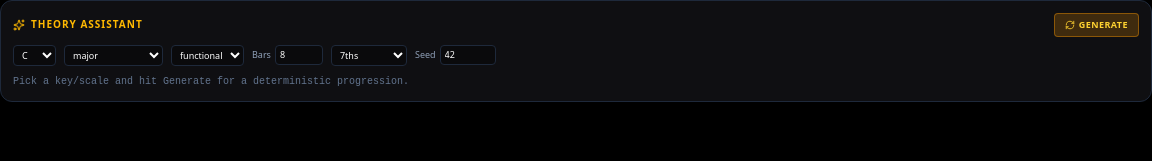
Test: TheoryPanel › generates a progression and shows chords, summary and score
Click the button "Generate" at (1096, 25), box [1054,13,1139,36]
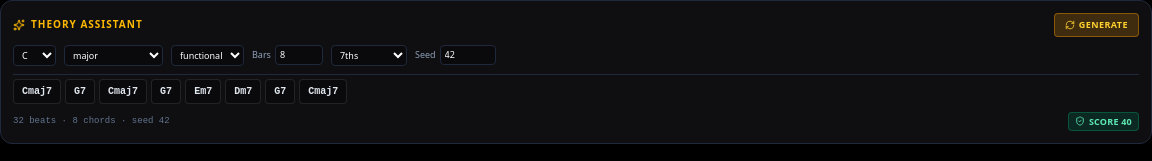
Expected: the 1st button titled "Preview " is shown, [13,78,61,104]
Expected: the text "32 beats · 8 chords · seed 42" is shown, [13,114,170,128]
Expected: the text "score 40" is shown, [1068,112,1139,131]
